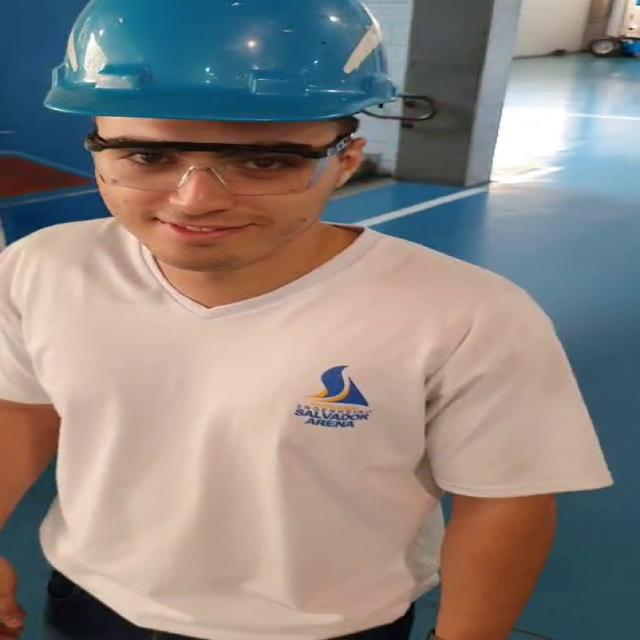oculos-epi: (86, 136, 347, 195)
